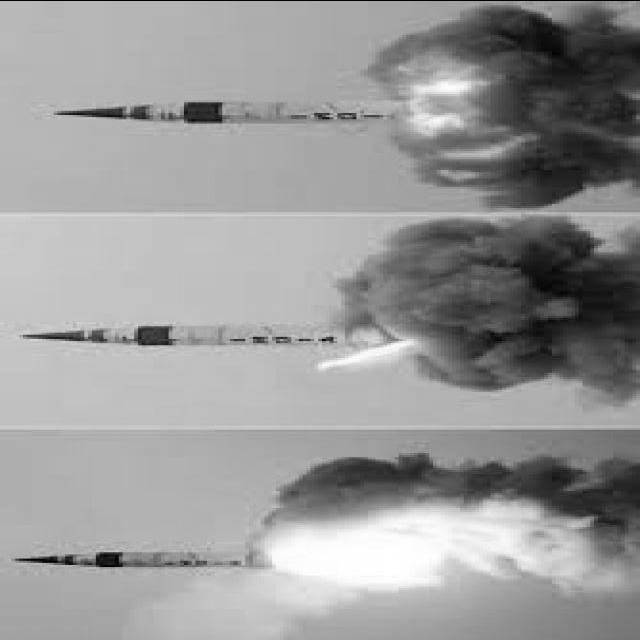missile: (45, 95, 413, 125), (9, 322, 364, 350), (7, 546, 307, 576)
